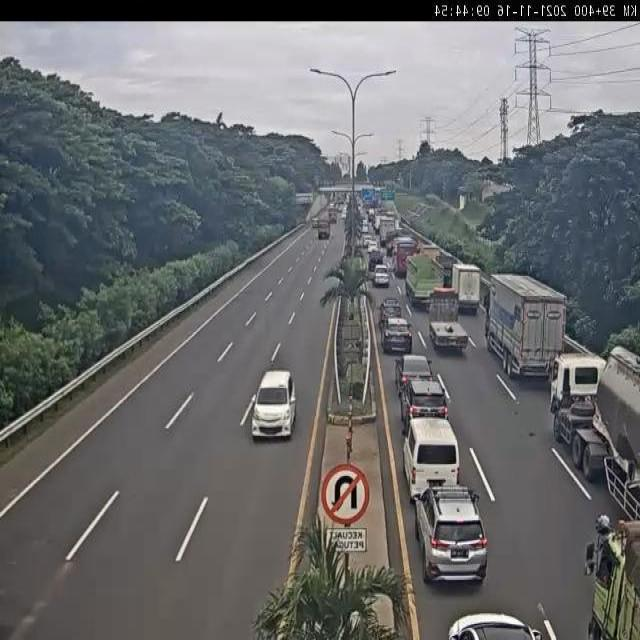Bus: (392, 236, 419, 281)
Car: (414, 485, 488, 586), (251, 369, 297, 439), (399, 378, 451, 436), (447, 611, 543, 640), (395, 353, 434, 396), (380, 315, 412, 354), (378, 297, 403, 323), (374, 265, 390, 287), (368, 248, 383, 270), (367, 239, 379, 253), (386, 242, 394, 256), (312, 218, 320, 228)
Truck: (550, 344, 640, 522), (486, 273, 566, 382), (584, 506, 639, 640), (427, 286, 471, 352), (403, 252, 446, 313), (450, 262, 482, 314), (434, 253, 458, 286), (378, 214, 396, 242), (384, 229, 402, 251), (418, 245, 440, 258), (318, 220, 330, 240), (328, 210, 338, 224), (372, 217, 380, 234), (368, 209, 375, 222)
Van: (400, 417, 462, 501)
